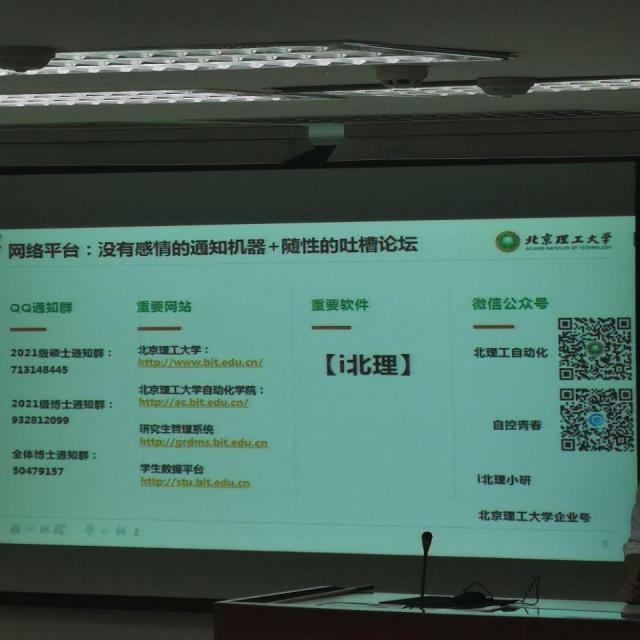qr_code: (557, 317, 632, 381), (560, 389, 635, 452)
